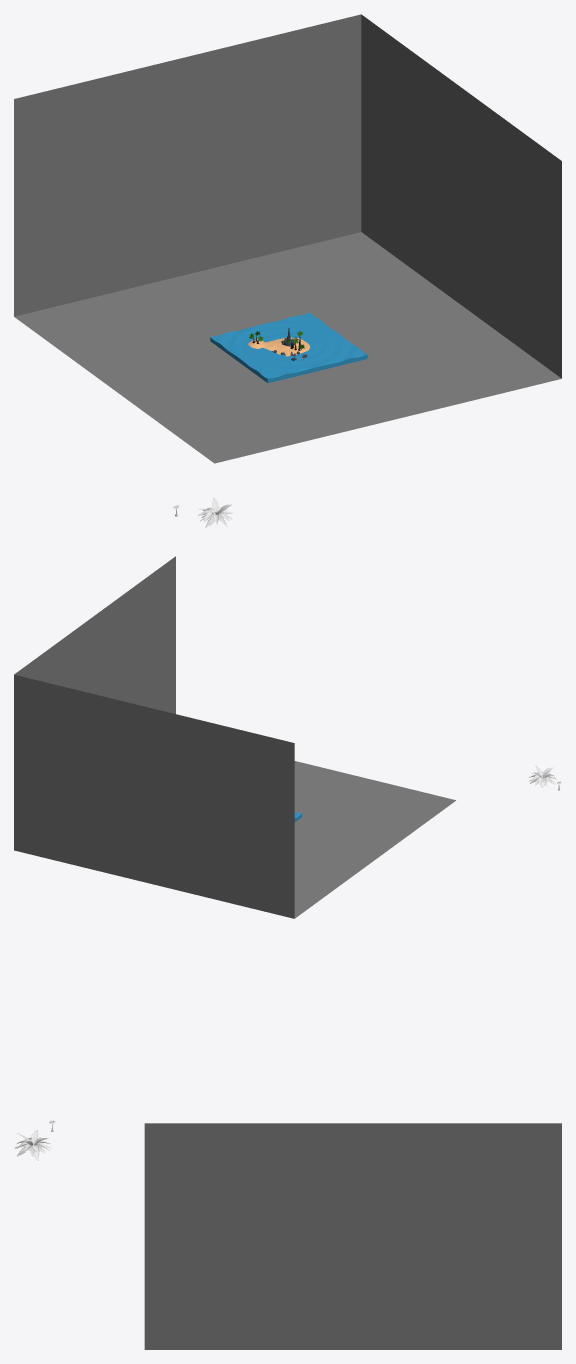
Rendered from 04_island.FBX.
3 renders of one model, top to bottom at view 1: azimuth 30°, elevation 25°; view 2: azimuth 150°, elevation 25°; view 3: azimuth 270°, elevation 25°, orthographic. The views are drawn at different scales.
Parts seen in each view (by area): view 1: Plane266, Box001; view 2: Plane266; view 3: Plane266.
Boxes of the visible parts, x1,y1,x2,y2 form: Plane266: [14, 14, 561, 463]; Box001: [210, 312, 367, 383]; Plane266: [14, 556, 455, 918]; Plane266: [144, 1123, 561, 1349].
Bounding box in the file's own units: 2172 × 1077 × 2289.
